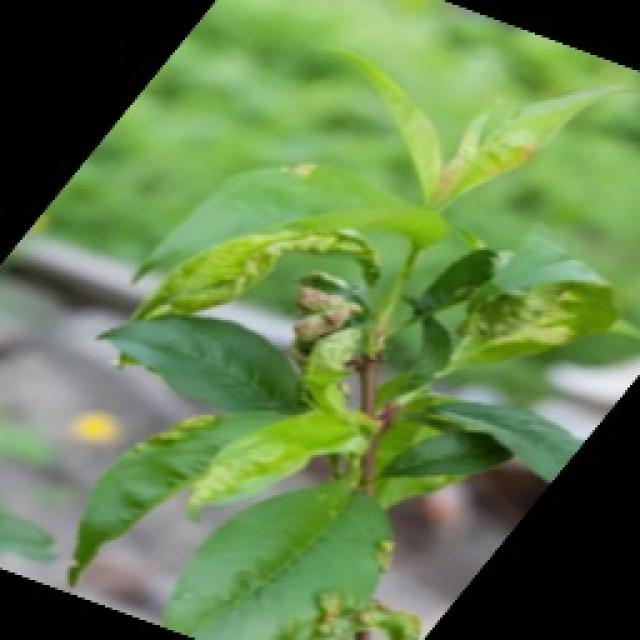peach_leaf_curl: (222, 198, 404, 460)
